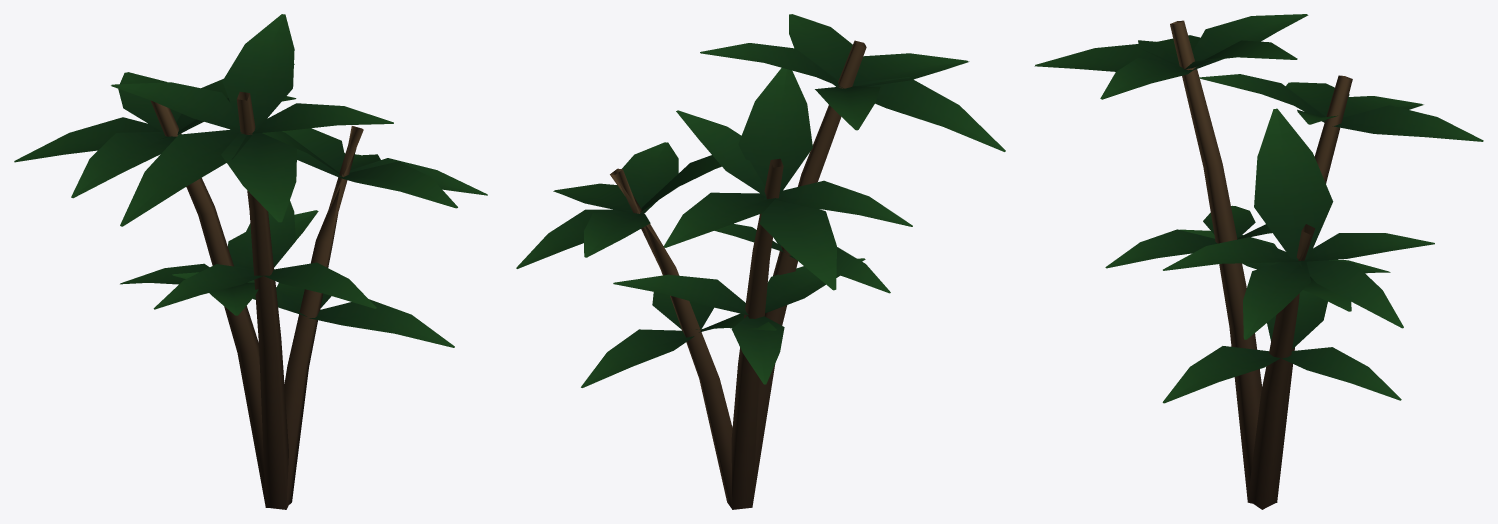
File: treeKitsuneAzaleaSmall.fbx
3 renders of one model, left to right at view 1: azimuth 30°, elevation 25°; view 2: azimuth 150°, elevation 25°; view 3: azimuth 270°, elevation 25°, orthographic. The views are drawn at different scales.
Visible parts, largest first — view 1: treeKitsuneAzaleaSmall; view 2: treeKitsuneAzaleaSmall; view 3: treeKitsuneAzaleaSmall.
Boxes of the visible parts, bbox=[...] form: treeKitsuneAzaleaSmall: bbox=[14, 14, 487, 509]; treeKitsuneAzaleaSmall: bbox=[516, 14, 1005, 509]; treeKitsuneAzaleaSmall: bbox=[1034, 14, 1483, 509].
Bounding box in the file's own units: 0.1876 × 0.2037 × 0.1824.
Materials: 1 (1 with a texture image).
